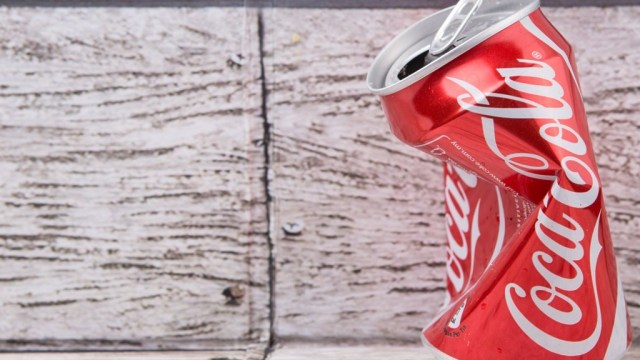can: (366, 1, 634, 360)
